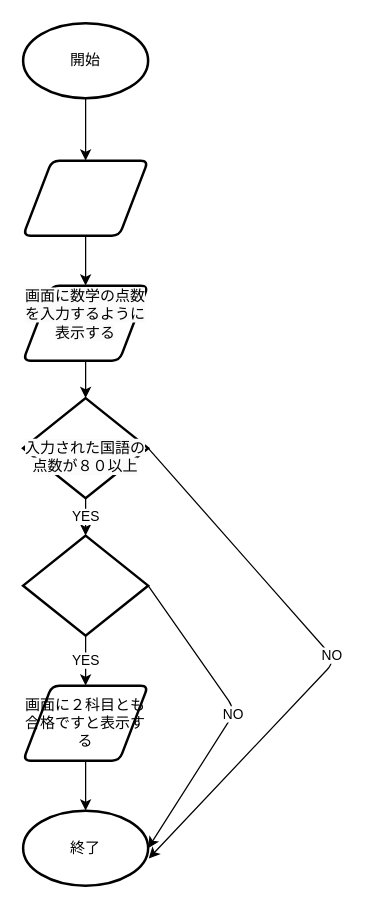
This 368x908 diagram has some shape labels left out. Here are the shapes that lost their labels. From the top down, the centre of each, then its label:
point 85,197: 画面に国語の点数を入力するように表示する
point 85,585: 入力された英語の点数が８０以上
